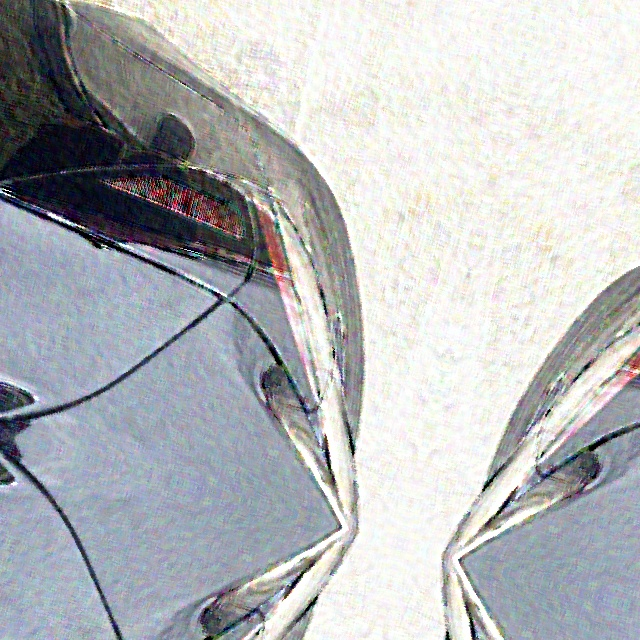reflector: (93, 158, 254, 239)
